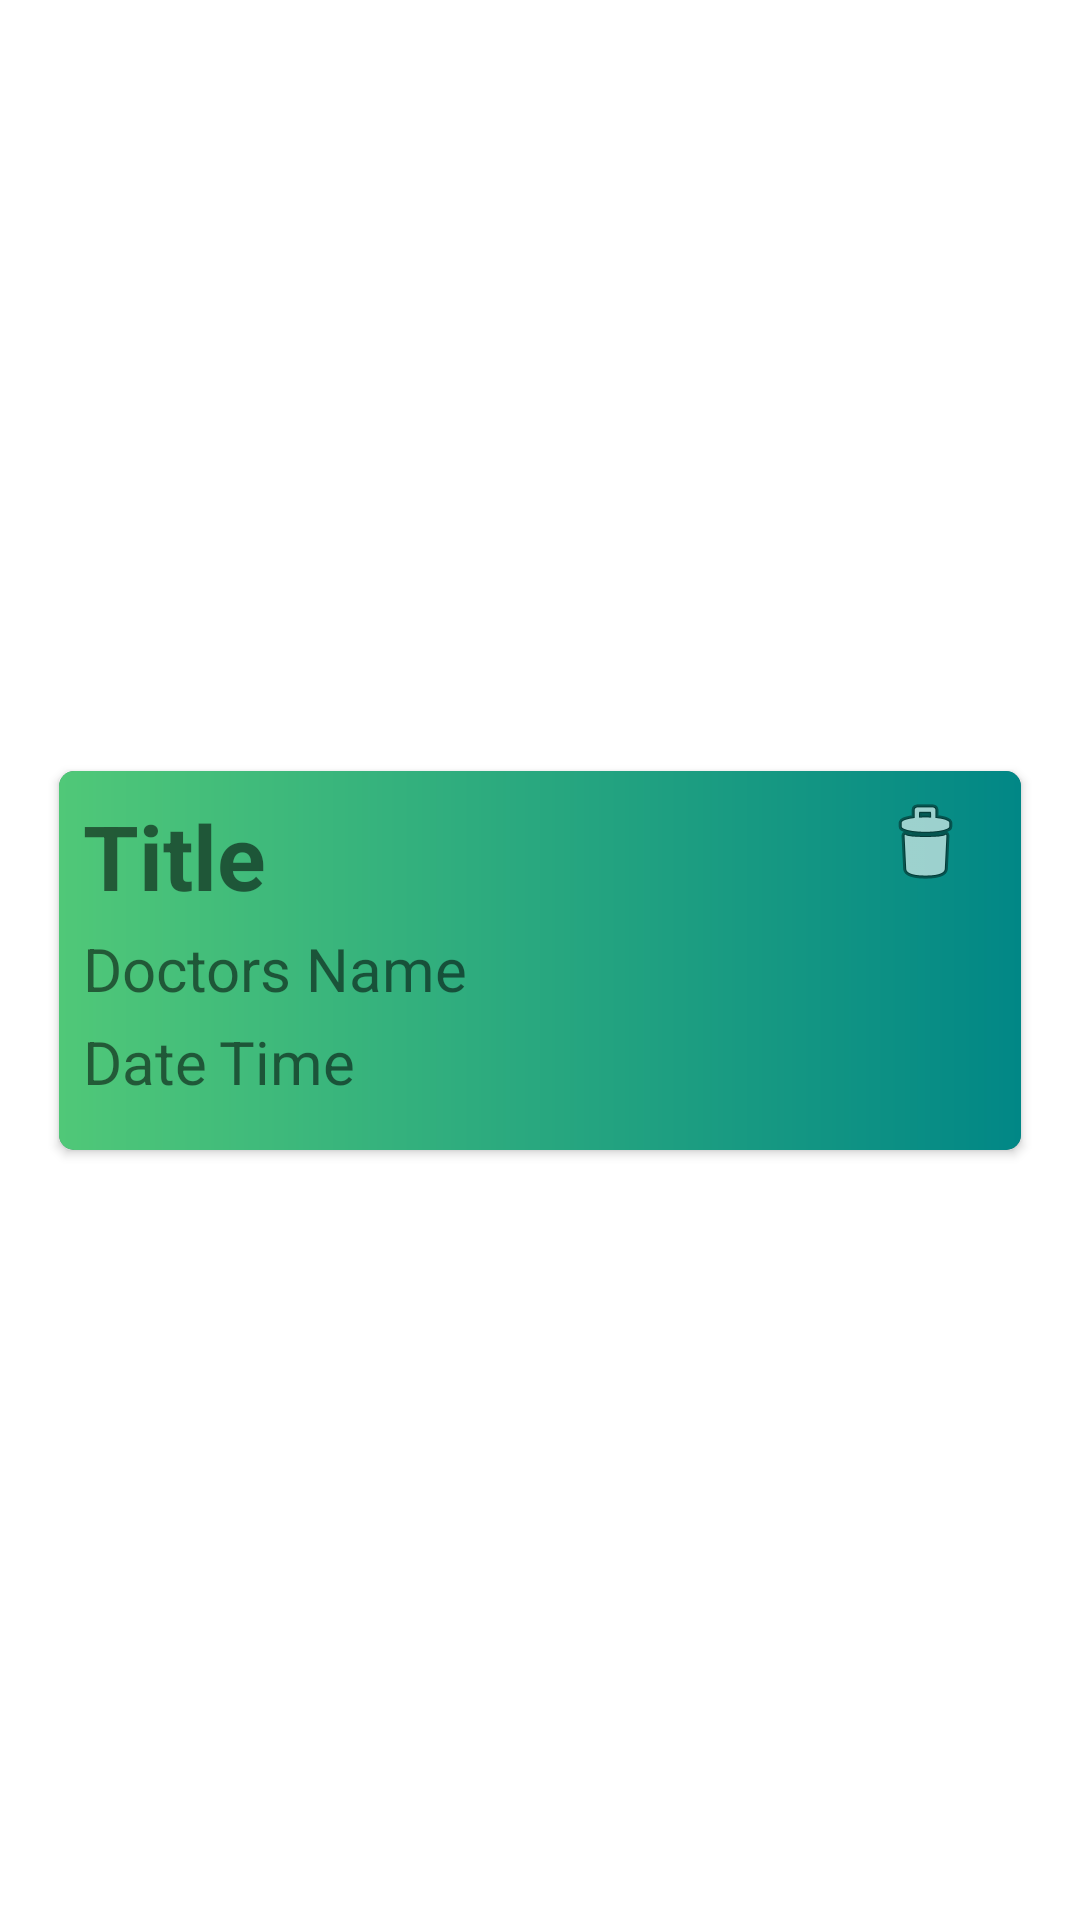

Icon click points for this 1080w x 1920h phone screenshot, format [x,y]:
delete: [925,841]
